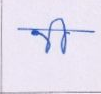i_matra: (53, 18, 69, 54)
